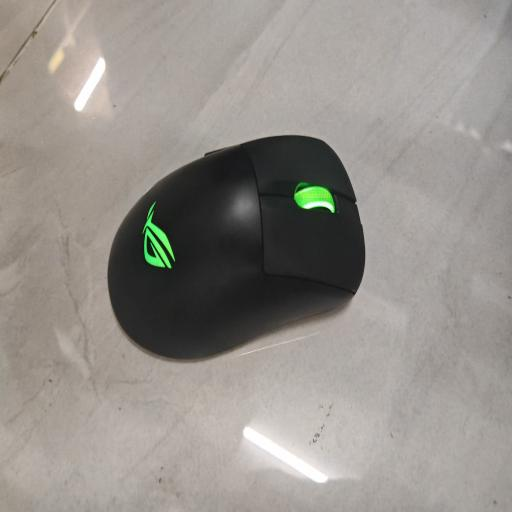mouse: (108, 136, 365, 358)
